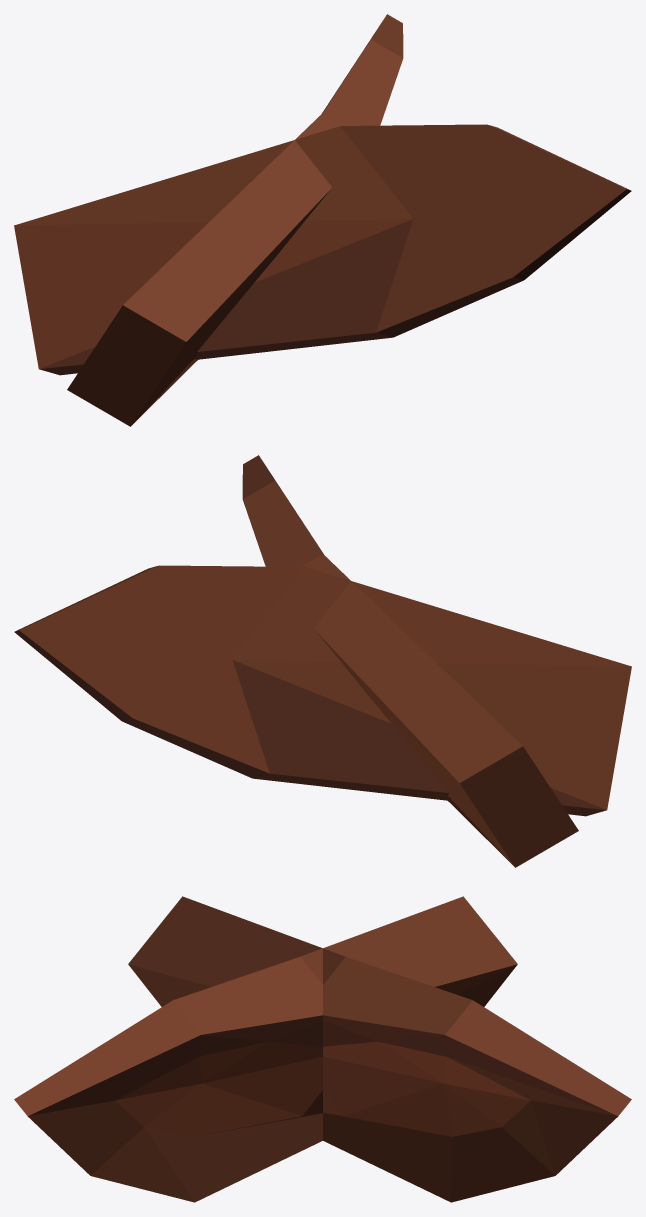
Rendered from kb_fin.glb.
3 views of the same model, one above another, from view 1: azimuth 30°, elevation 25°; view 2: azimuth 150°, elevation 25°; view 3: azimuth 270°, elevation 25° (orthographic). The views are drawn at different scales.
Parts seen in each view (by area): view 1: Ear_R, Ear_L; view 2: Ear_L, Ear_R; view 3: Ear_L, Ear_R.
Boxes of the visible parts, left/top/right/bottom form: Ear_R: left=14, top=124, right=631, bottom=375; Ear_L: left=67, top=14, right=403, bottom=426; Ear_L: left=14, top=565, right=631, bottom=816; Ear_R: left=242, top=455, right=578, bottom=867; Ear_L: left=128, top=896, right=631, bottom=1202; Ear_R: left=14, top=896, right=517, bottom=1202.
Size of the model in its own units: 0.0583 by 0.0285 by 0.052.
Materials: 1 (1 with a texture image).
